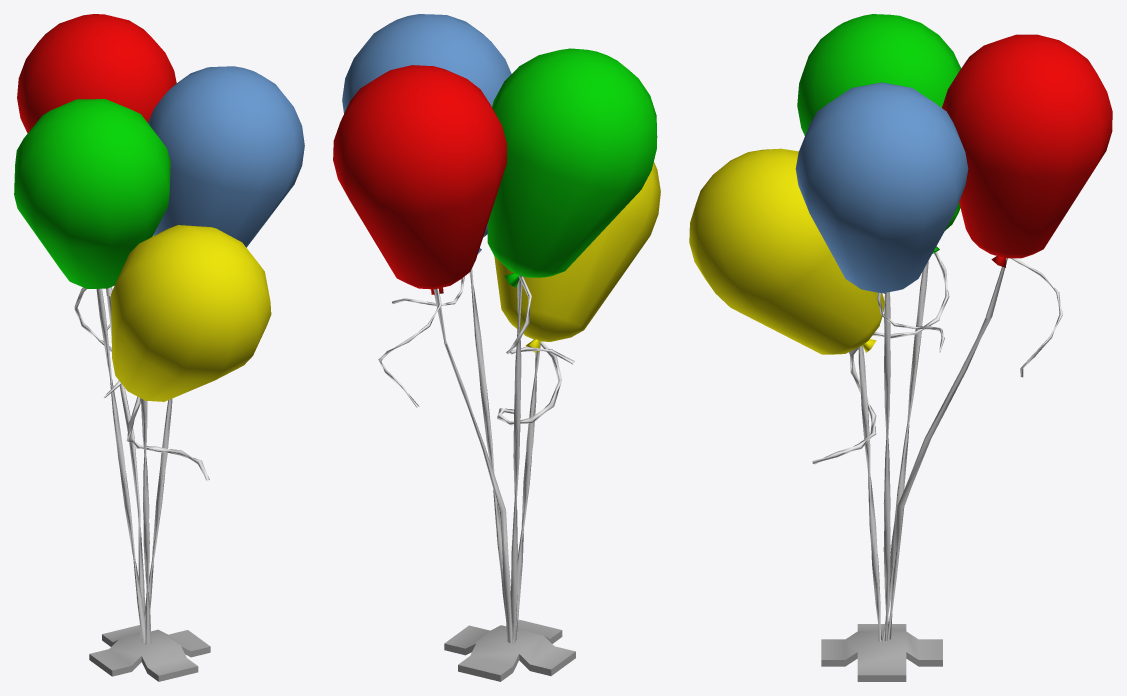
The model's file is Balloons_B.fbx.
3 views of the same model, side by side, from view 1: azimuth 30°, elevation 25°; view 2: azimuth 150°, elevation 25°; view 3: azimuth 270°, elevation 25° (orthographic). The views are drawn at different scales.
Visible parts, largest first — view 1: Balloon_Blue, Balloon_Red, Balloon_Green, Balloon_Yellow, Cords, Base; view 2: Balloon_Red, Balloon_Yellow, Balloon_Blue, Cords, Balloon_Green, Base; view 3: Balloon_Yellow, Balloon_Green, Balloon_Blue, Balloon_Red, Cords, Base.
Boxes of the visible parts, box(x1,y1,x2,y2) form: Balloon_Blue: box(111, 225, 271, 401); Balloon_Red: box(14, 99, 170, 288); Balloon_Green: box(148, 66, 304, 247); Balloon_Yellow: box(17, 14, 176, 133); Cords: box(74, 287, 209, 644); Base: box(89, 625, 210, 681); Balloon_Red: box(487, 48, 657, 287); Balloon_Yellow: box(333, 65, 506, 294); Balloon_Blue: box(494, 162, 660, 352); Cords: box(378, 268, 574, 643); Balloon_Green: box(342, 14, 511, 253); Base: box(444, 619, 575, 681); Balloon_Yellow: box(942, 34, 1112, 267); Balloon_Green: box(795, 82, 968, 293); Balloon_Blue: box(689, 148, 884, 354); Balloon_Red: box(797, 14, 961, 253); Cords: box(812, 251, 1062, 641); Base: box(821, 624, 942, 681).
Bounding box in the file's own units: 0.7015 × 1.45 × 0.8928.
